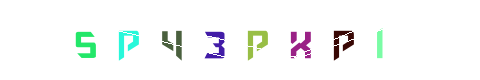3: (177, 0, 257, 80)
4: (159, 0, 239, 80)
I: (302, 0, 382, 80)
P: (142, 0, 222, 80), (200, 0, 280, 80), (253, 0, 333, 80)
S: (46, 0, 126, 80)
X: (207, 0, 287, 80)
